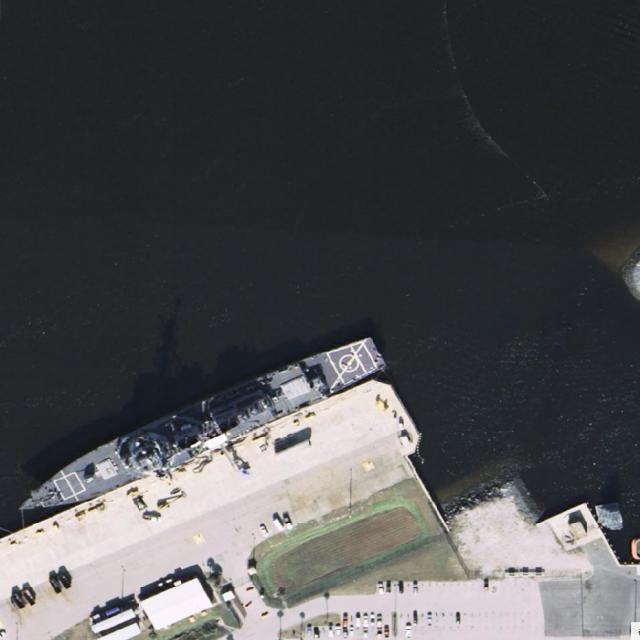Destroyer: (7, 331, 387, 524)
